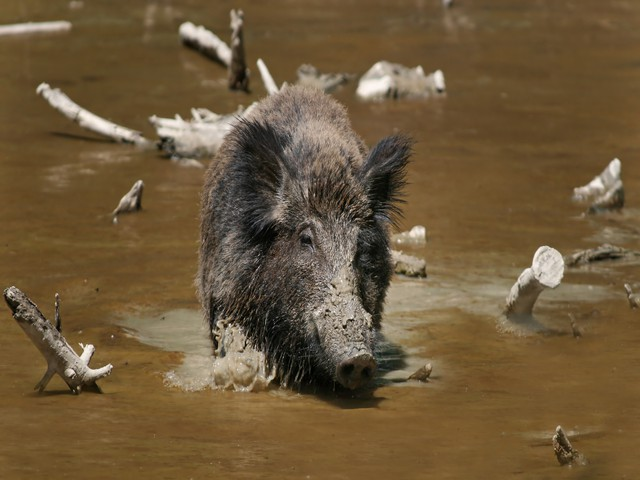Pig: (199, 81, 417, 387)
